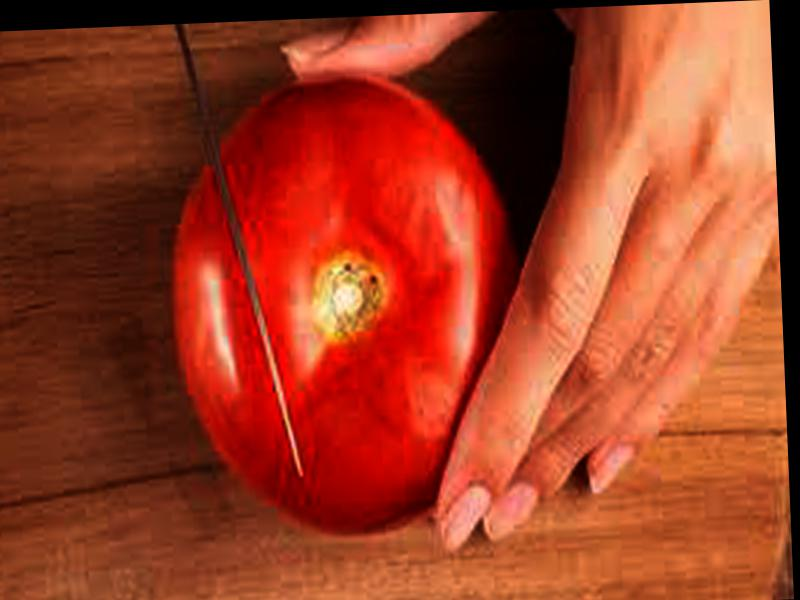Tomato: (171, 74, 531, 537)
